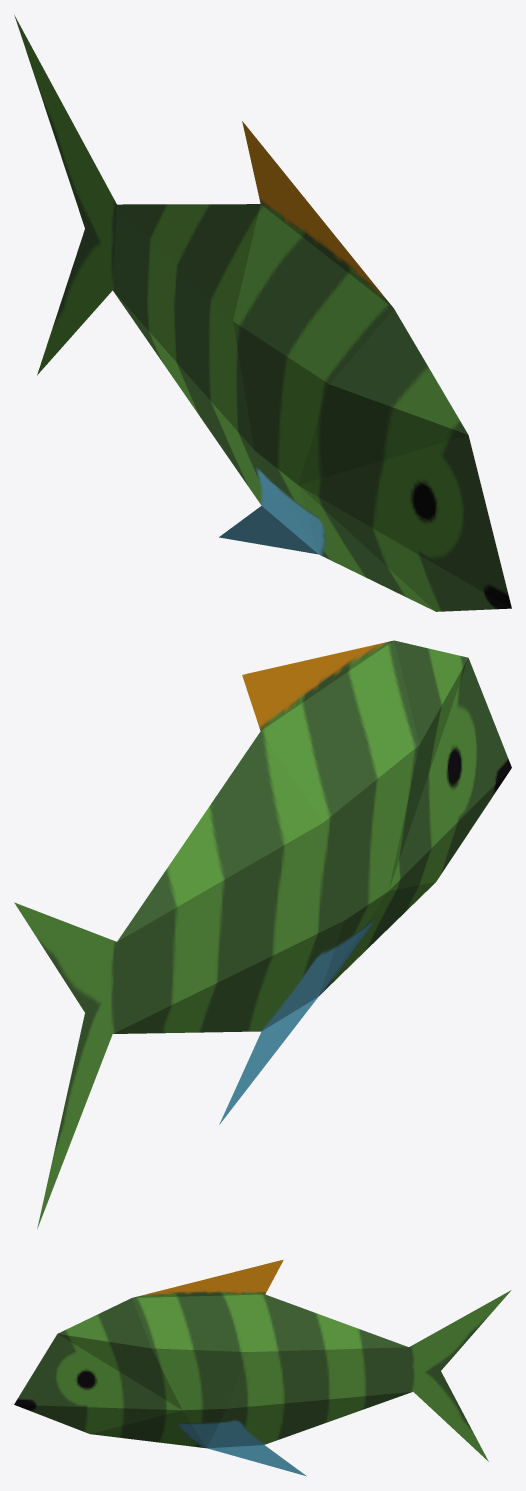
File: fish.fbx
3 renders of one model, top to bottom at view 1: azimuth 30°, elevation 25°; view 2: azimuth 150°, elevation 25°; view 3: azimuth 270°, elevation 25°, orthographic. The views are drawn at different scales.
Visible parts, largest first — view 1: Plane; view 2: Plane; view 3: Plane.
Boxes of the visible parts, x1,y1,x2,y2 form: Plane: (14,15,511,611); Plane: (14,640,511,1229); Plane: (14,1259,511,1476).
Bounding box in the file's own units: 20.04 × 92 × 191.
